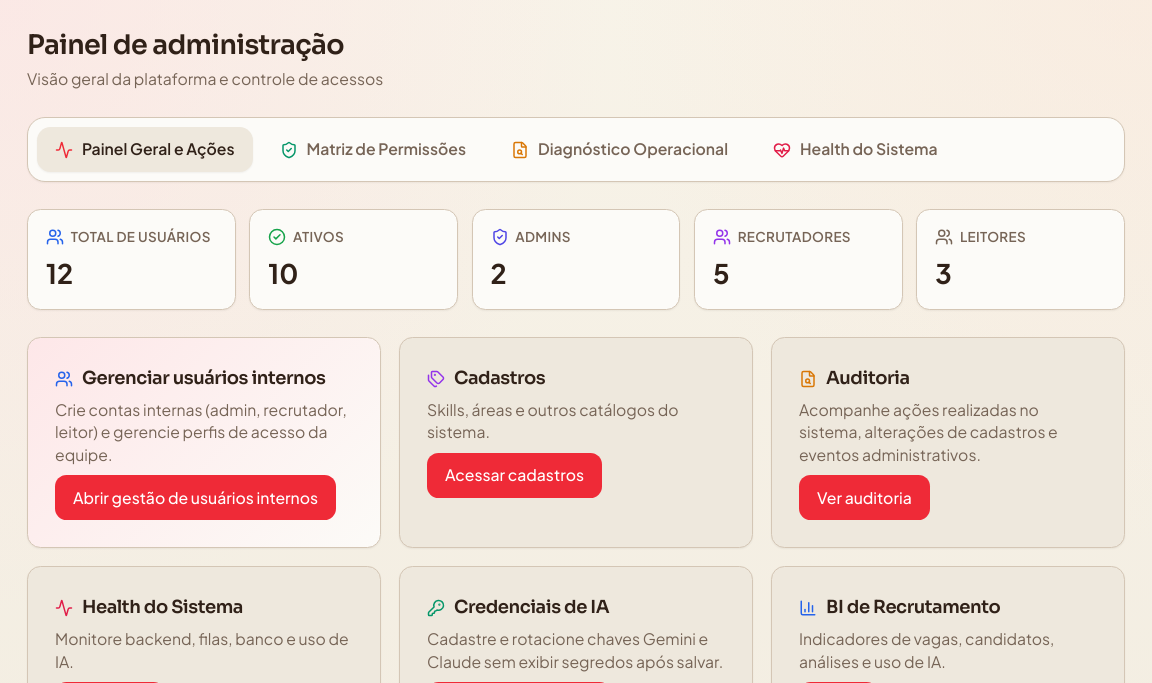
Scenario: AdminPage › exibe cards admin e o diagnóstico candidato/vaga ao alternar as abas
Check: the heading "Auditoria" is shown, box [799,367,910,389]
Check: the button "Ver auditoria" is shown, box [799,475,930,520]
// Clicar na aba de Diagnóstico Operacional
Step 1. Click the button "Diagnóstico Operacional" → (620, 150), box [493,127,746,172]
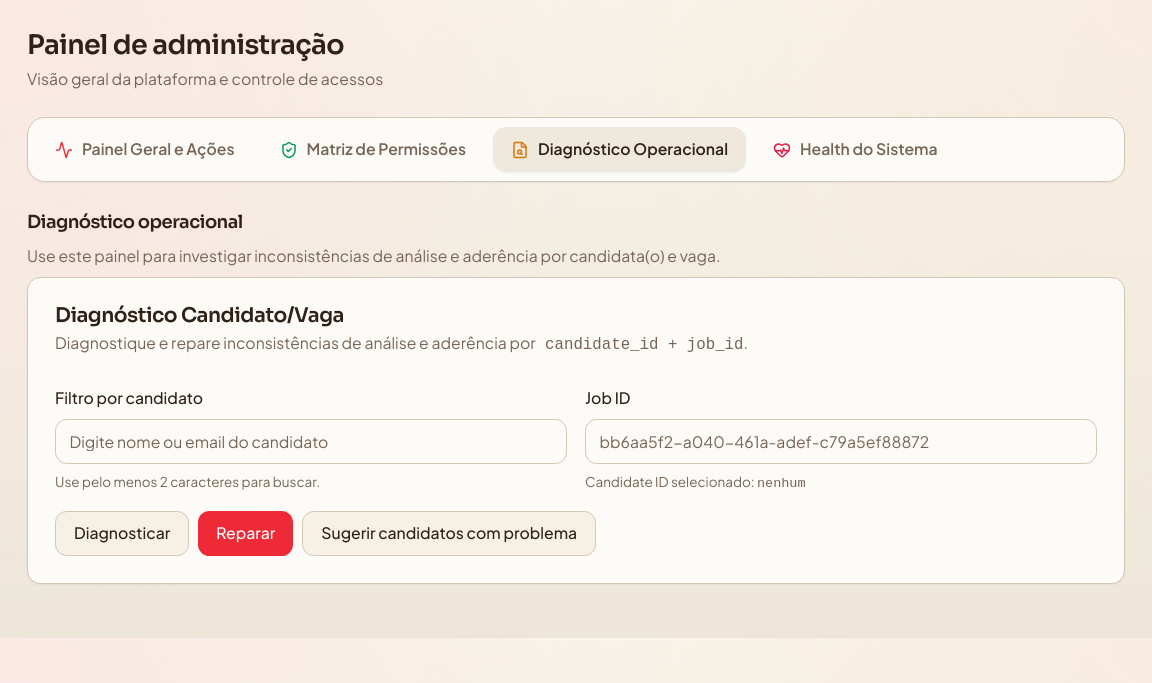
Check: the heading "Diagnóstico Candidato/Vaga" is shown, box [55,302,344,328]
Check: the button "Diagnosticar" is shown, box [55,511,189,556]
Check: the button "Reparar" is shown, box [198,511,293,556]
